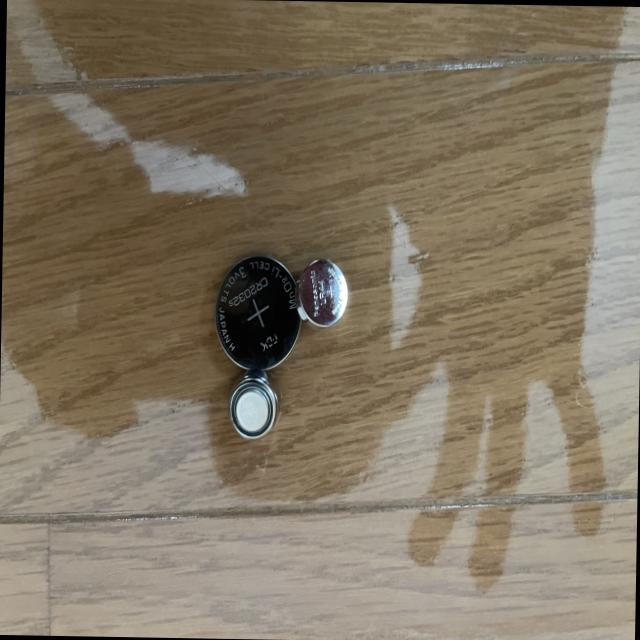COIN: (210, 251, 302, 369), (292, 257, 351, 328), (222, 370, 279, 440)
